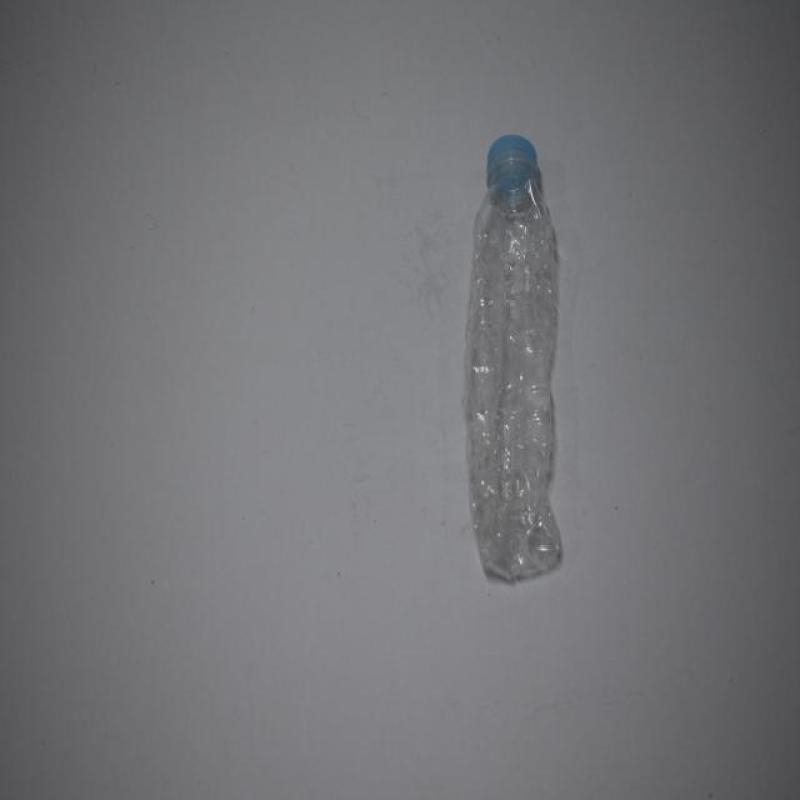botella: (459, 129, 563, 583)
